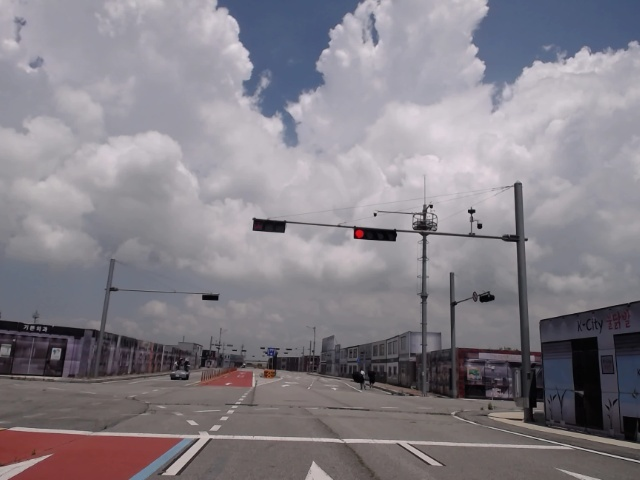red_4: (354, 227, 396, 241)
